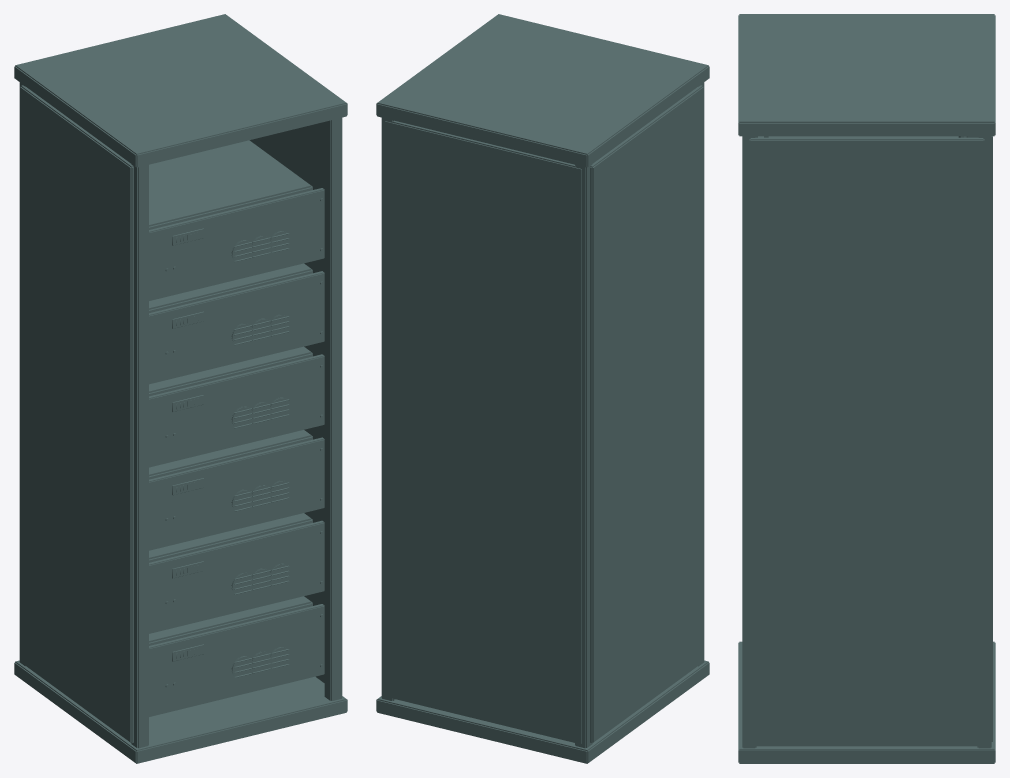
Rendered from OBJ-072_RackControl.fbx.
3 renders of one model, left to right at view 1: azimuth 30°, elevation 25°; view 2: azimuth 150°, elevation 25°; view 3: azimuth 270°, elevation 25°, orthographic. The views are drawn at different scales.
Visible parts, largest first — view 1: GEO-OBJ-072_RackControl.004; view 2: GEO-OBJ-072_RackControl.004; view 3: GEO-OBJ-072_RackControl.004.
Part boxes in pixels (x1=…): GEO-OBJ-072_RackControl.004: x1=14, y1=14, x2=347, y2=763; GEO-OBJ-072_RackControl.004: x1=376, y1=14, x2=709, y2=763; GEO-OBJ-072_RackControl.004: x1=738, y1=14, x2=995, y2=763.
Bounding box in the file's own units: 0.8 × 2.2 × 0.8.
